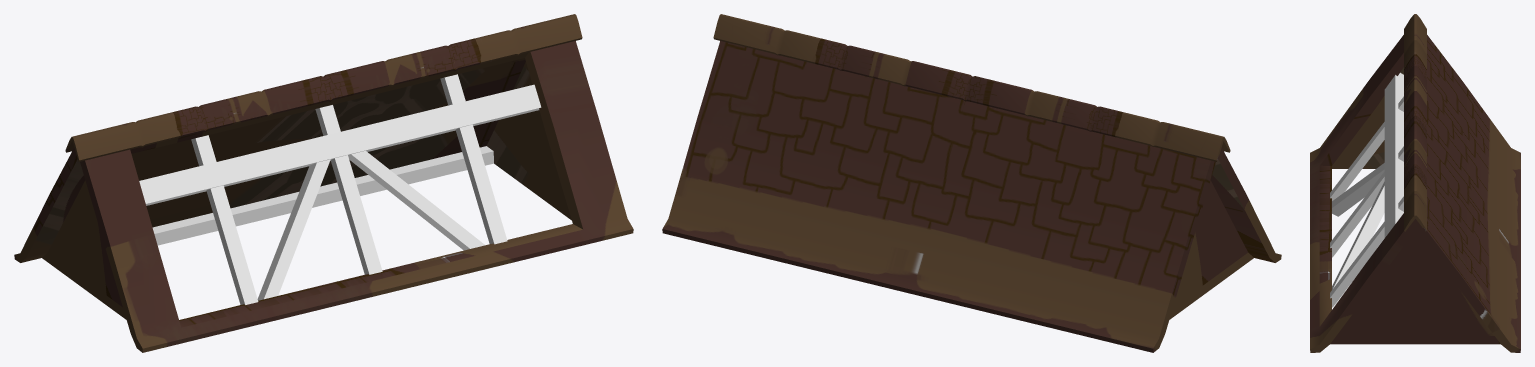
File: Roof.fbx
3 renders of one model, left to right at view 1: azimuth 30°, elevation 25°; view 2: azimuth 150°, elevation 25°; view 3: azimuth 270°, elevation 25°, orthographic. The views are drawn at different scales.
Parts seen in each view (by area): view 1: roof, rooftile, LargeBeam, Angled_Beam, Angled_SmallBeam, BackBeam; view 2: roof, rooftile; view 3: roof, rooftile, Angled_Beam, LargeBeam, Angled_SmallBeam.
Part boxes in pixels (x1,y1,x2,y2): roof: (14, 41, 633, 352); rooftile: (65, 14, 582, 161); LargeBeam: (139, 84, 541, 205); Angled_Beam: (191, 74, 507, 304); Angled_SmallBeam: (257, 150, 484, 300); BackBeam: (152, 146, 493, 245); roof: (662, 41, 1281, 352); rooftile: (713, 14, 1230, 161); roof: (1310, 35, 1520, 352); rooftile: (1404, 14, 1426, 231); Angled_Beam: (1330, 96, 1403, 307); LargeBeam: (1384, 72, 1403, 237); Angled_SmallBeam: (1332, 163, 1384, 305).
Size of the model in its own units: 4965 by 1655 by 2193.
